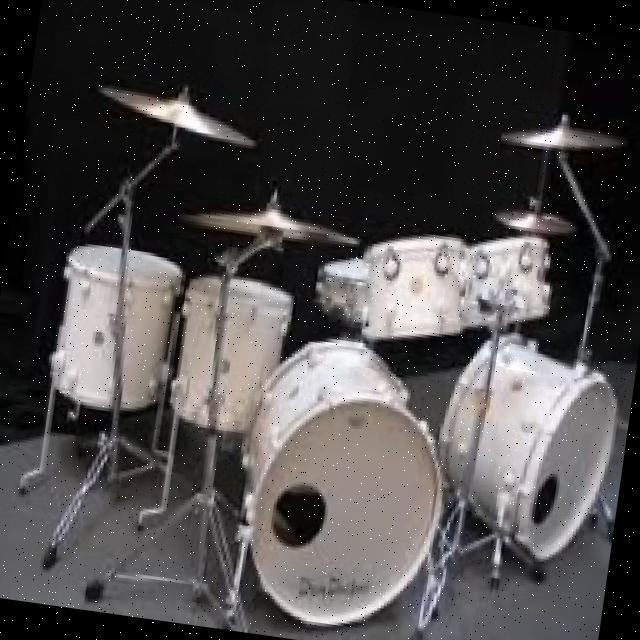drums: (5, 43, 640, 640)
